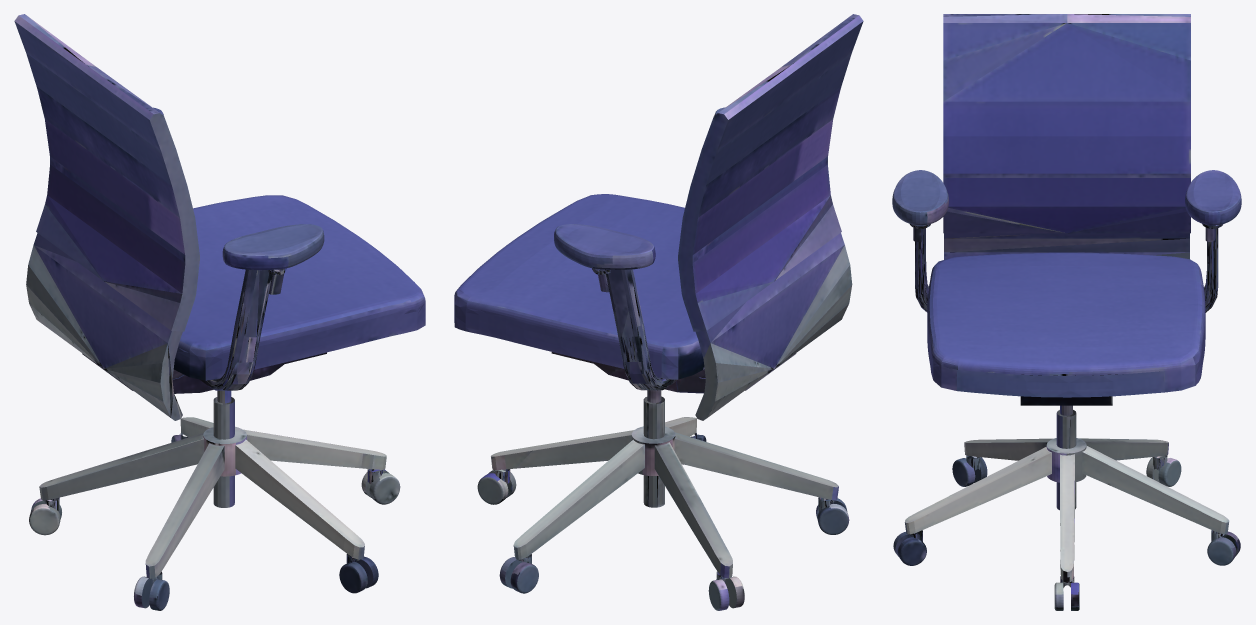
3 views of the same model, side by side, from view 1: azimuth 30°, elevation 25°; view 2: azimuth 150°, elevation 25°; view 3: azimuth 270°, elevation 25° (orthographic). The views are drawn at different scales.
Visible parts, largest first — view 1: Node; view 2: Node; view 3: Node.
Part boxes in pixels (x1,y1,x2,y2): Node: (14,14,425,610); Node: (454,14,863,610); Node: (892,14,1241,610).
Bounding box in the file's own units: 0.452 × 0.7 × 0.4779.
1 material, 1 textured.
